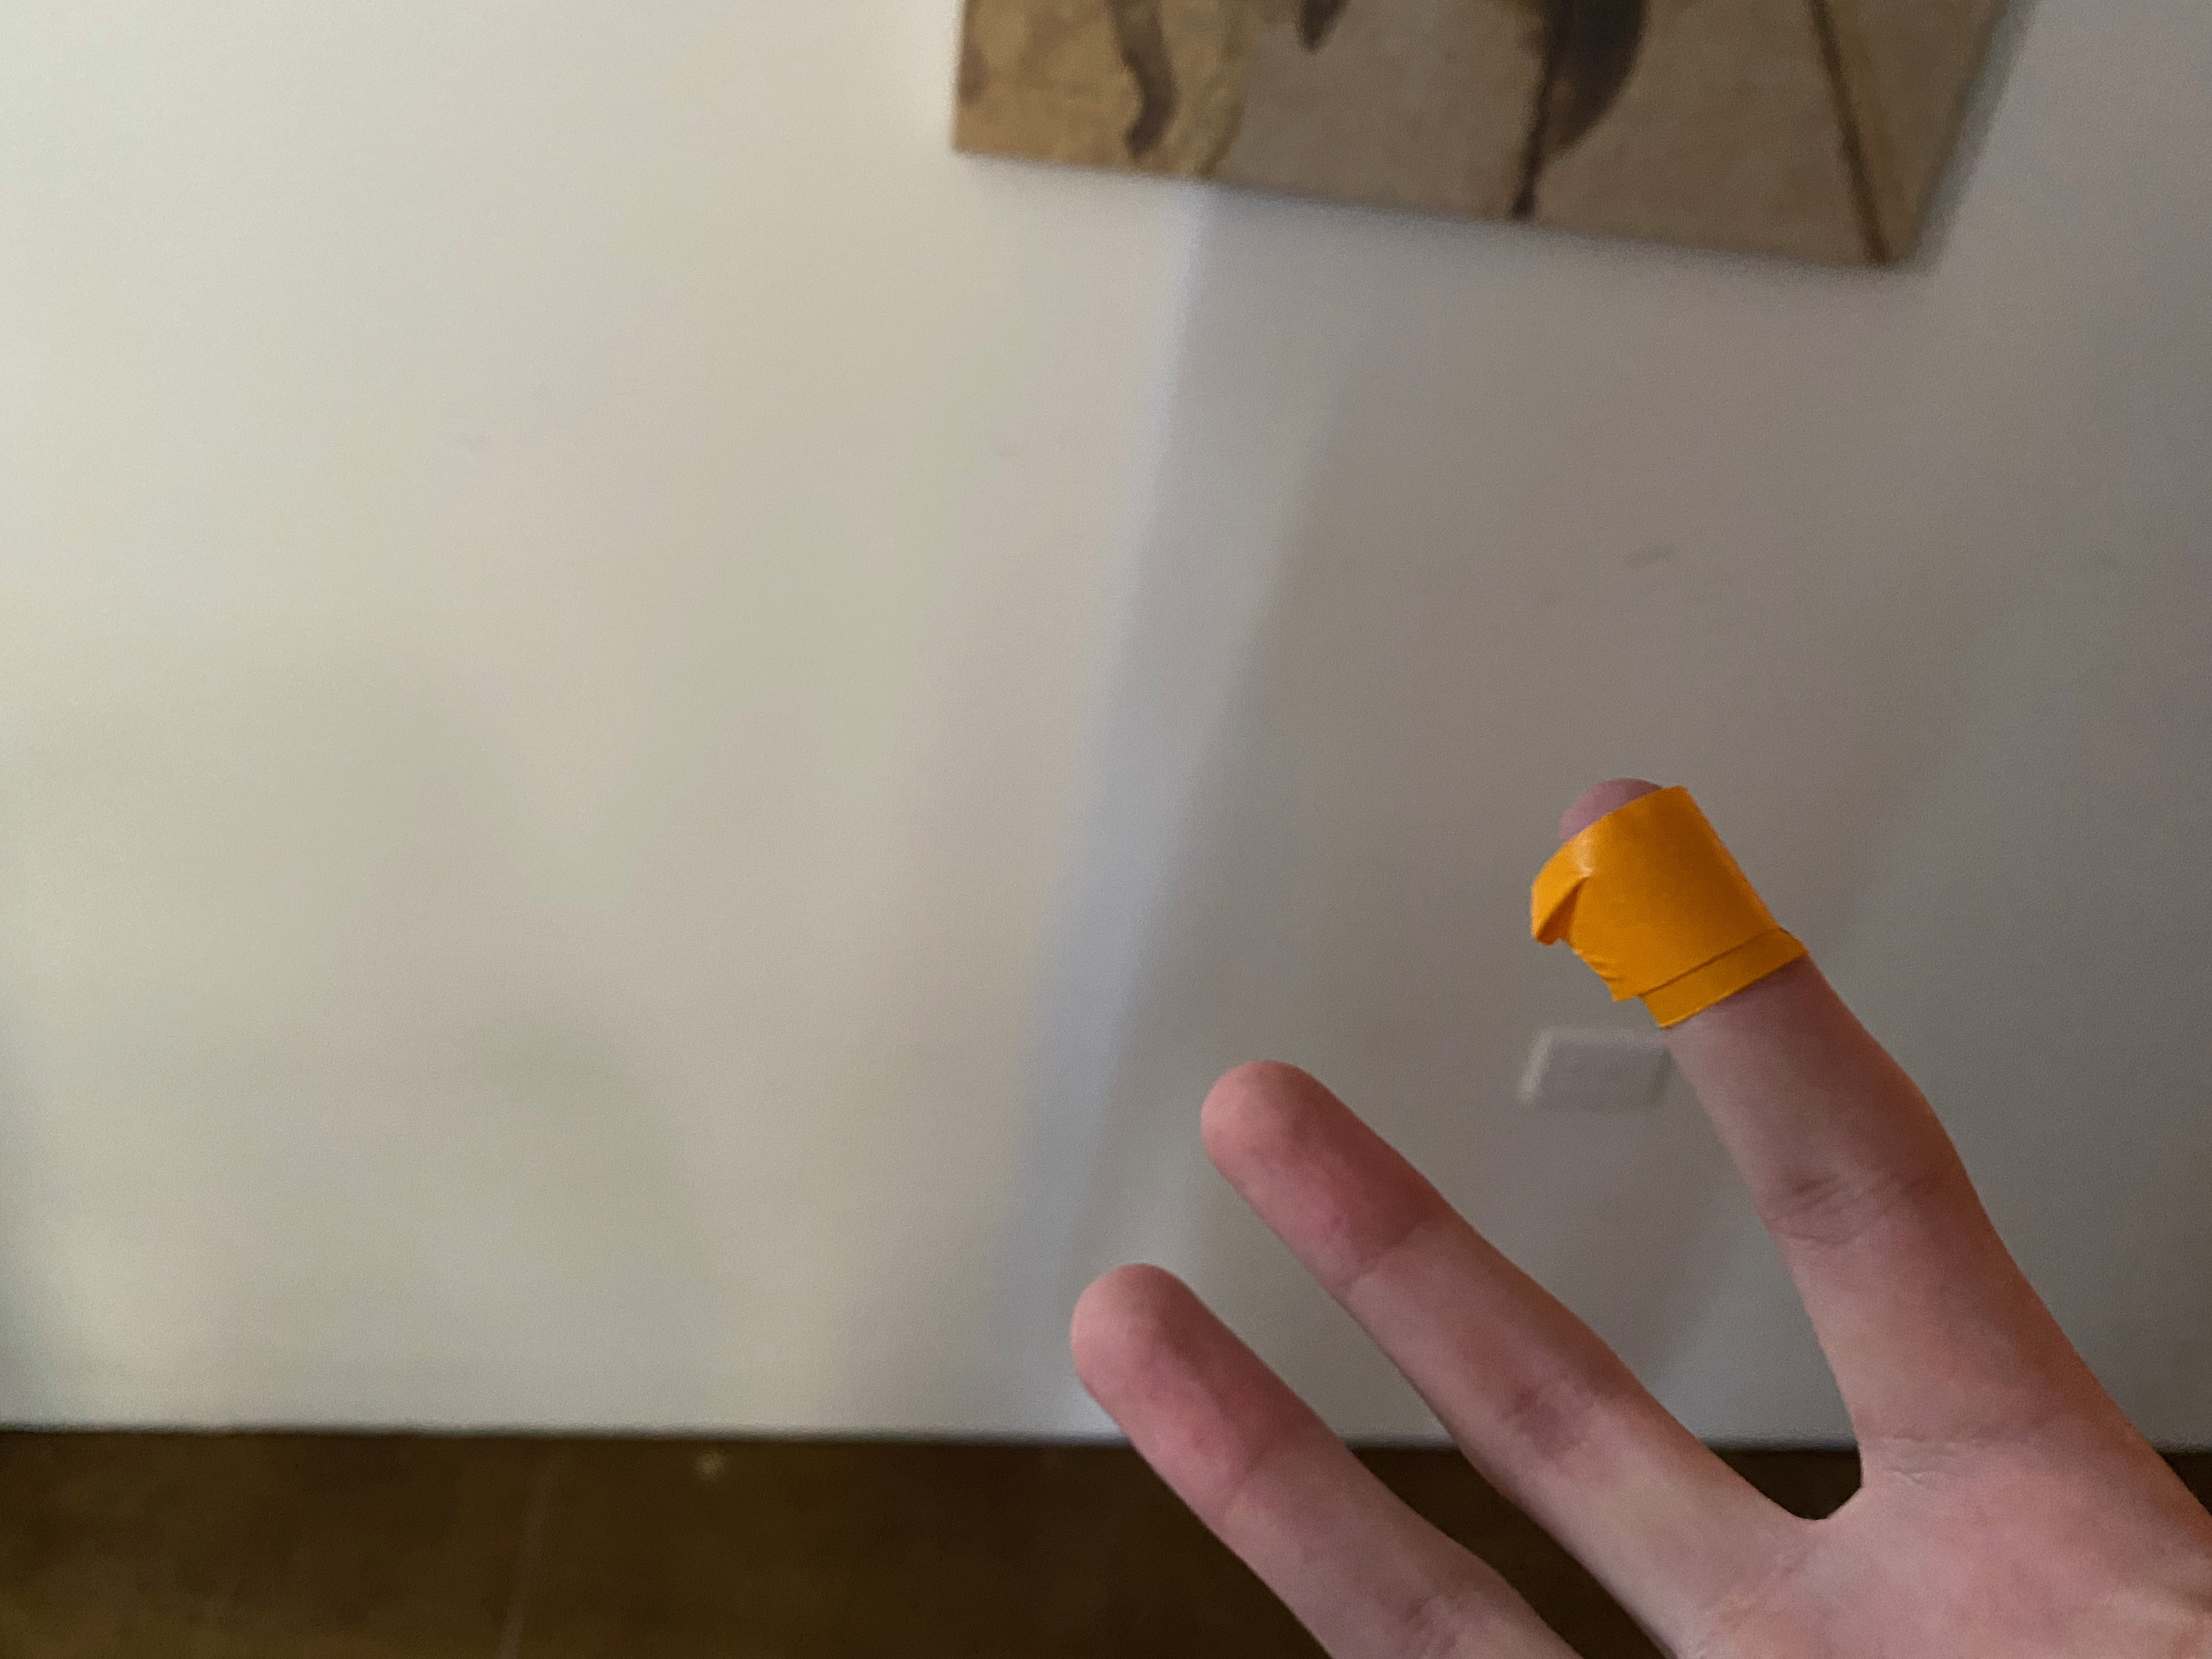fingertip: (1500, 756, 1846, 1086)
